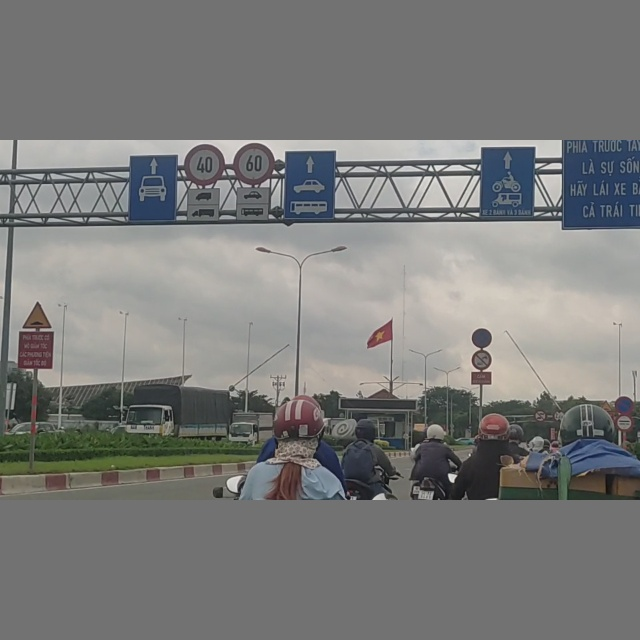P.107: (534, 409, 547, 421), (553, 410, 565, 422)
P.111: (471, 350, 492, 369)
P.127*40: (184, 144, 225, 187)
P.127*60: (233, 143, 275, 185)
P.129: (615, 415, 633, 431)
P.130: (473, 328, 493, 348)
P.131a: (615, 397, 635, 414)
W.221b: (23, 301, 53, 329), (599, 400, 613, 411)
